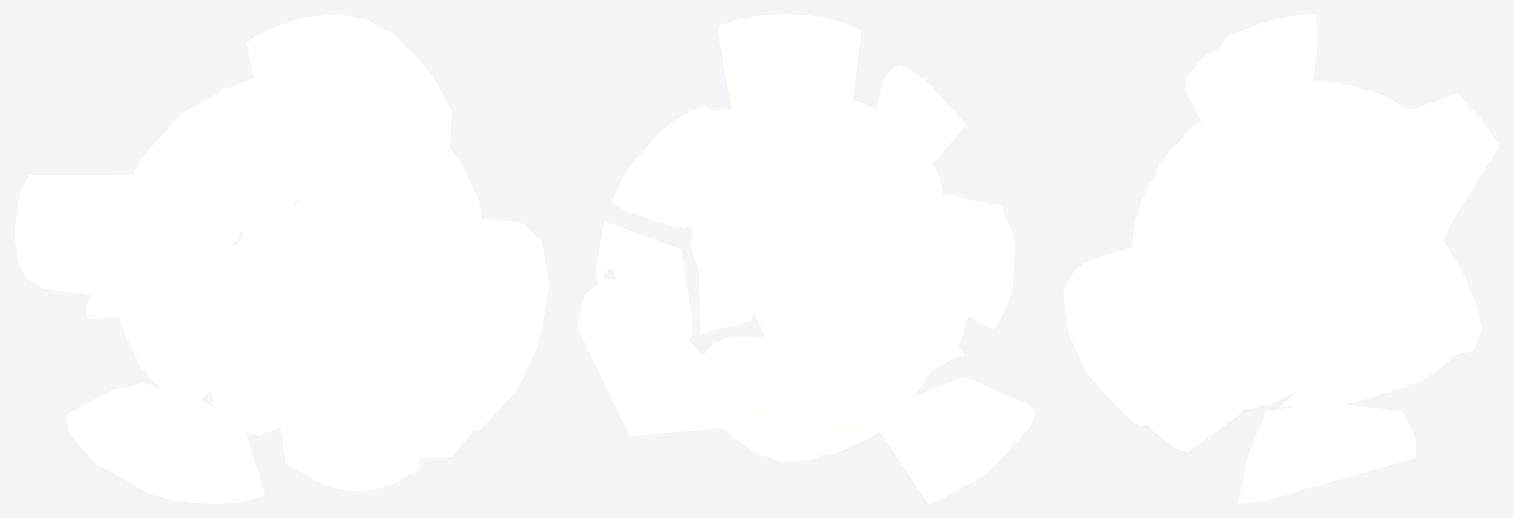
The model's file is abstractball4.2.glb.
3 views of the same model, side by side, from view 1: azimuth 30°, elevation 25°; view 2: azimuth 150°, elevation 25°; view 3: azimuth 270°, elevation 25° (orthographic). The views are drawn at different scales.
Visible parts, largest first — view 1: Voronoi_Fracture.4; view 2: Voronoi_Fracture.4; view 3: Voronoi_Fracture.4.
Boxes of the visible parts, left/top/right/bottom form: Voronoi_Fracture.4: left=14, top=14, right=548, bottom=503; Voronoi_Fracture.4: left=577, top=14, right=1034, bottom=503; Voronoi_Fracture.4: left=1063, top=14, right=1499, bottom=503.
Size of what is drawn, in the model's own units: 5.08 by 4.79 by 4.43.
1 material, 1 textured.
